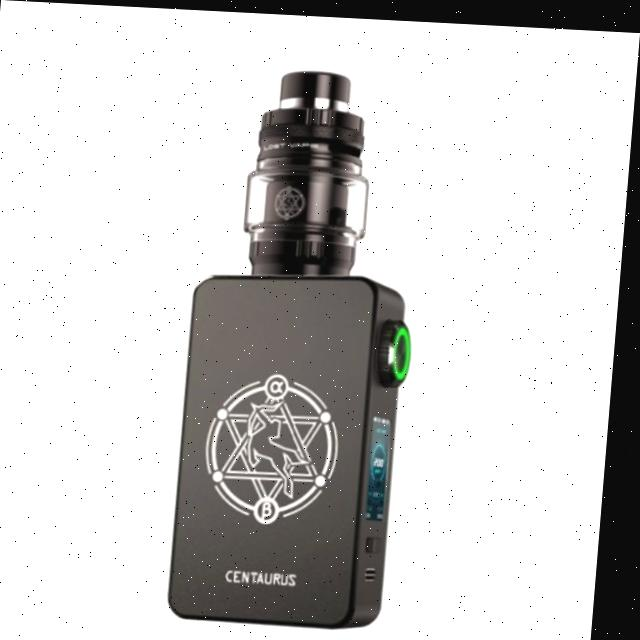vape: (175, 62, 435, 629)
